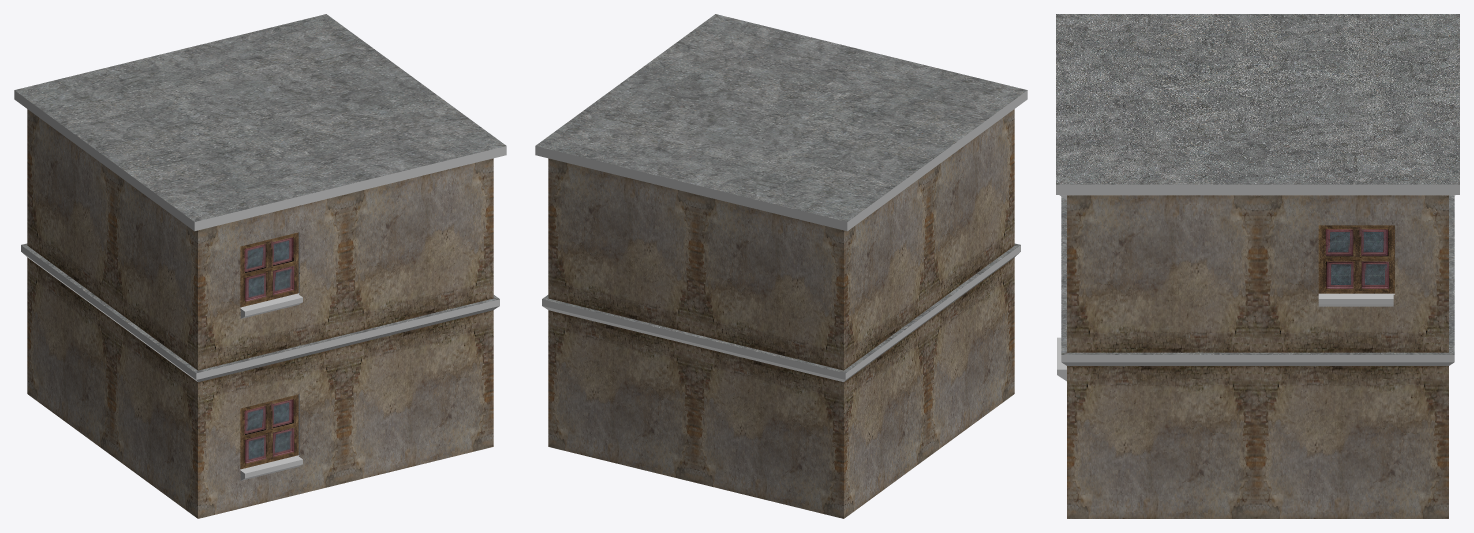
The model's file is Building_02.fbx.
3 views of the same model, side by side, from view 1: azimuth 30°, elevation 25°; view 2: azimuth 150°, elevation 25°; view 3: azimuth 270°, elevation 25° (orthographic). The views are drawn at different scales.
Visible parts, largest first — view 1: Building_02; view 2: Building_02; view 3: Building_02.
Part boxes in pixels (<box>): Building_02: <box>14,14,506,518</box>; Building_02: <box>535,14,1027,518</box>; Building_02: <box>1056,14,1459,518</box>.
Bounding box in the file's own units: 528 × 489 × 528.
